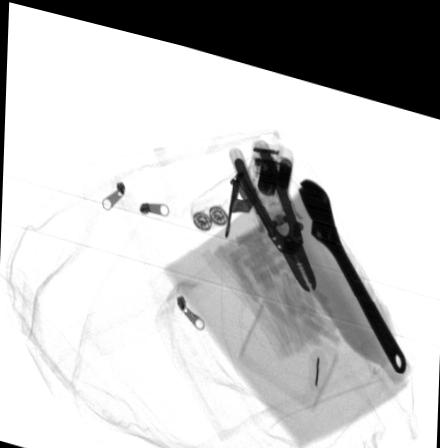Pliers: (225, 122, 315, 275)
Wrench: (297, 161, 405, 351)
